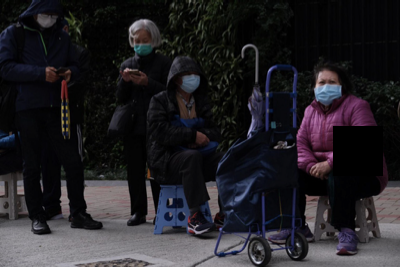with_mask: (312, 76, 344, 109), (180, 71, 202, 94), (36, 9, 60, 29), (133, 35, 153, 56)
